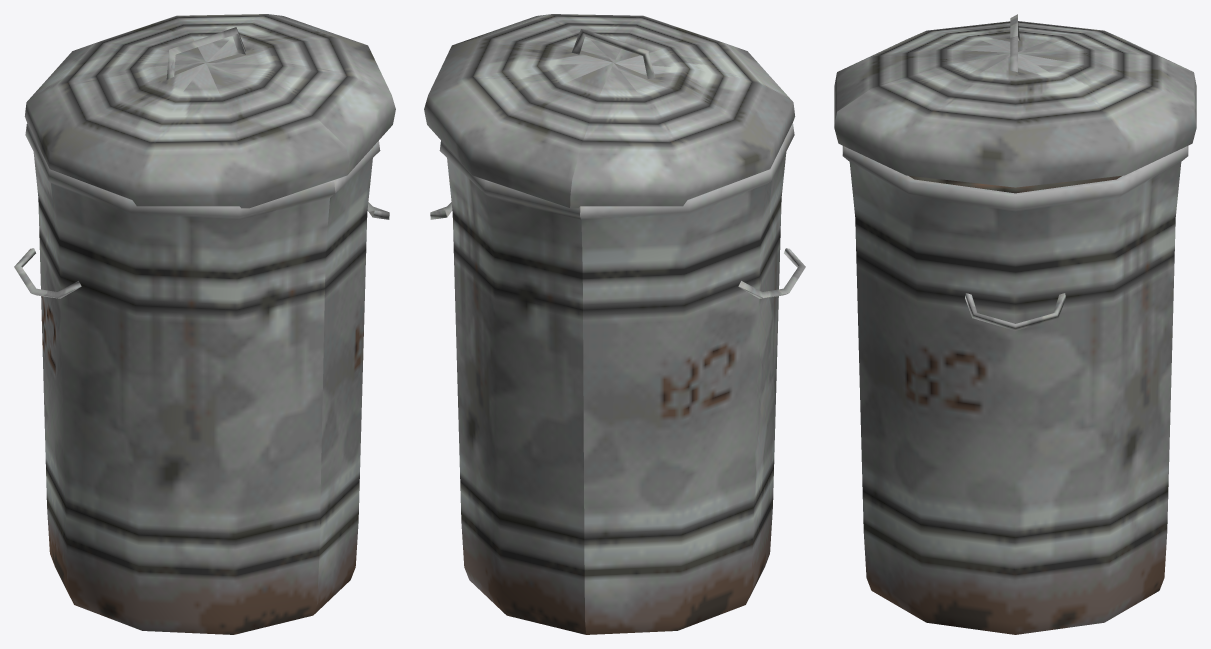
The model's file is trash_can_metal.obj.
3 views of the same model, side by side, from view 1: azimuth 30°, elevation 25°; view 2: azimuth 150°, elevation 25°; view 3: azimuth 270°, elevation 25° (orthographic).
Parts seen in each view (by area): view 1: trash_can_metal; view 2: trash_can_metal; view 3: trash_can_metal.
Part boxes in pixels (bbox=[...]): trash_can_metal: bbox=[14, 14, 395, 634]; trash_can_metal: bbox=[424, 14, 805, 634]; trash_can_metal: bbox=[834, 14, 1196, 634].
Bounding box in the file's own units: 0.545 × 0.817 × 0.4907.
1 material, 1 textured.
